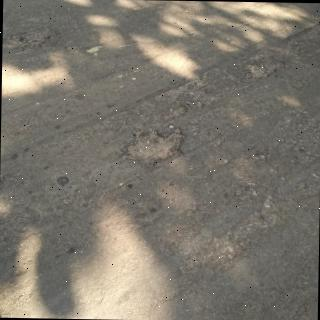pothole: (122, 130, 184, 167)
